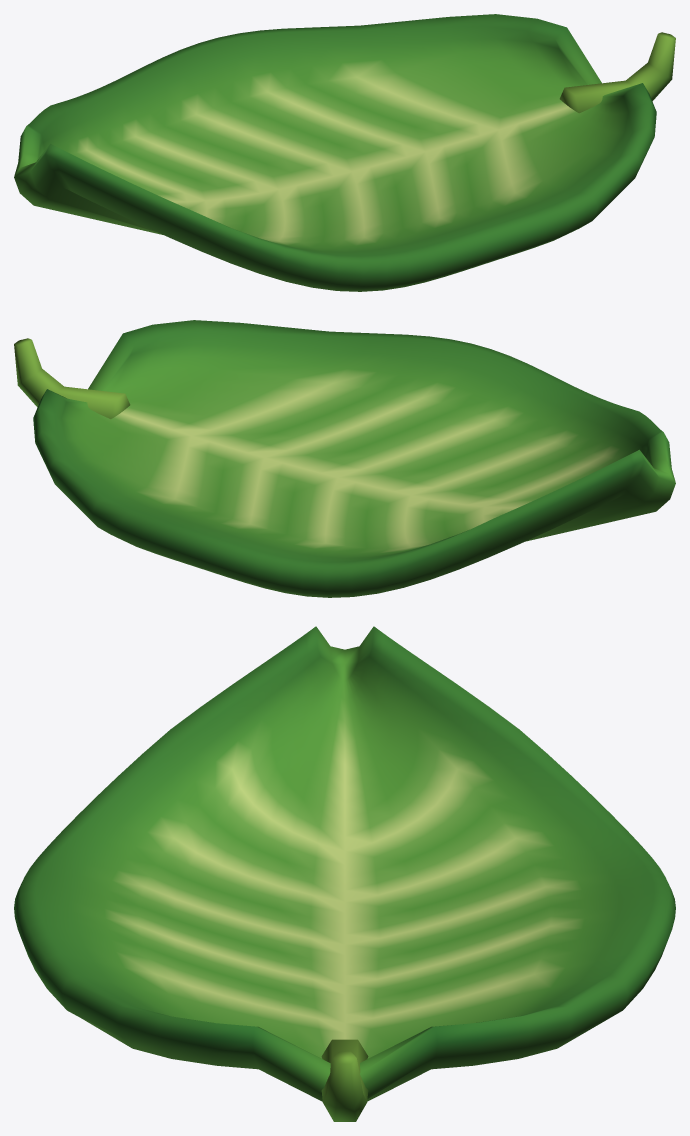
File: pet_mount_leaf.fbx
The picture shows the model from 3 angles, top to bottom: view 1: azimuth 30°, elevation 25°; view 2: azimuth 150°, elevation 25°; view 3: azimuth 270°, elevation 25°; orthographic projection. The views are drawn at different scales.
Visible parts, largest first — view 1: pet_mount_leaf; view 2: pet_mount_leaf; view 3: pet_mount_leaf.
Boxes of the visible parts, box(x1,y1,x2,y2) form: pet_mount_leaf: box(14, 14, 675, 291); pet_mount_leaf: box(14, 320, 675, 597); pet_mount_leaf: box(14, 626, 675, 1121).
Bounding box in the file's own units: 3.3 × 0.7135 × 2.4.
